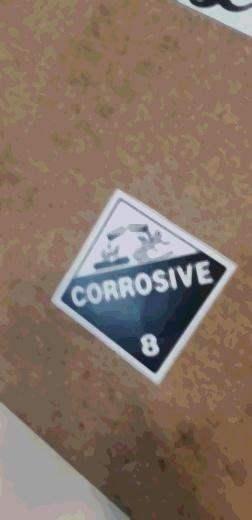corrosive: (48, 186, 239, 390)
